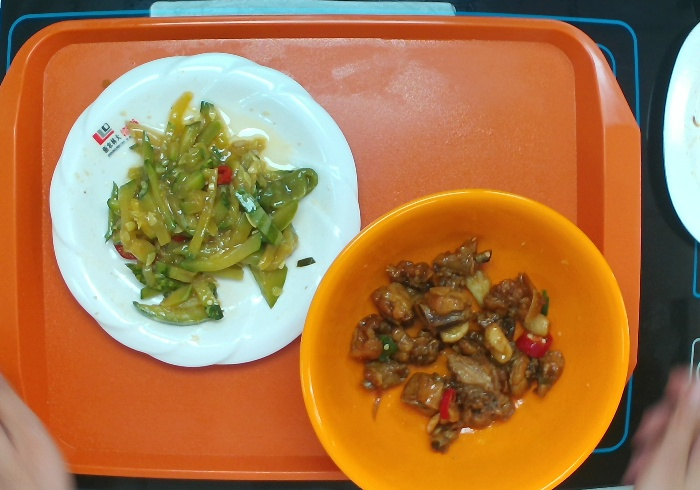ZNLD-Hua_Bian_Wan: (45, 48, 366, 372)
ZNLD-Ju_Se_Tang_Wan: (295, 183, 633, 490)
